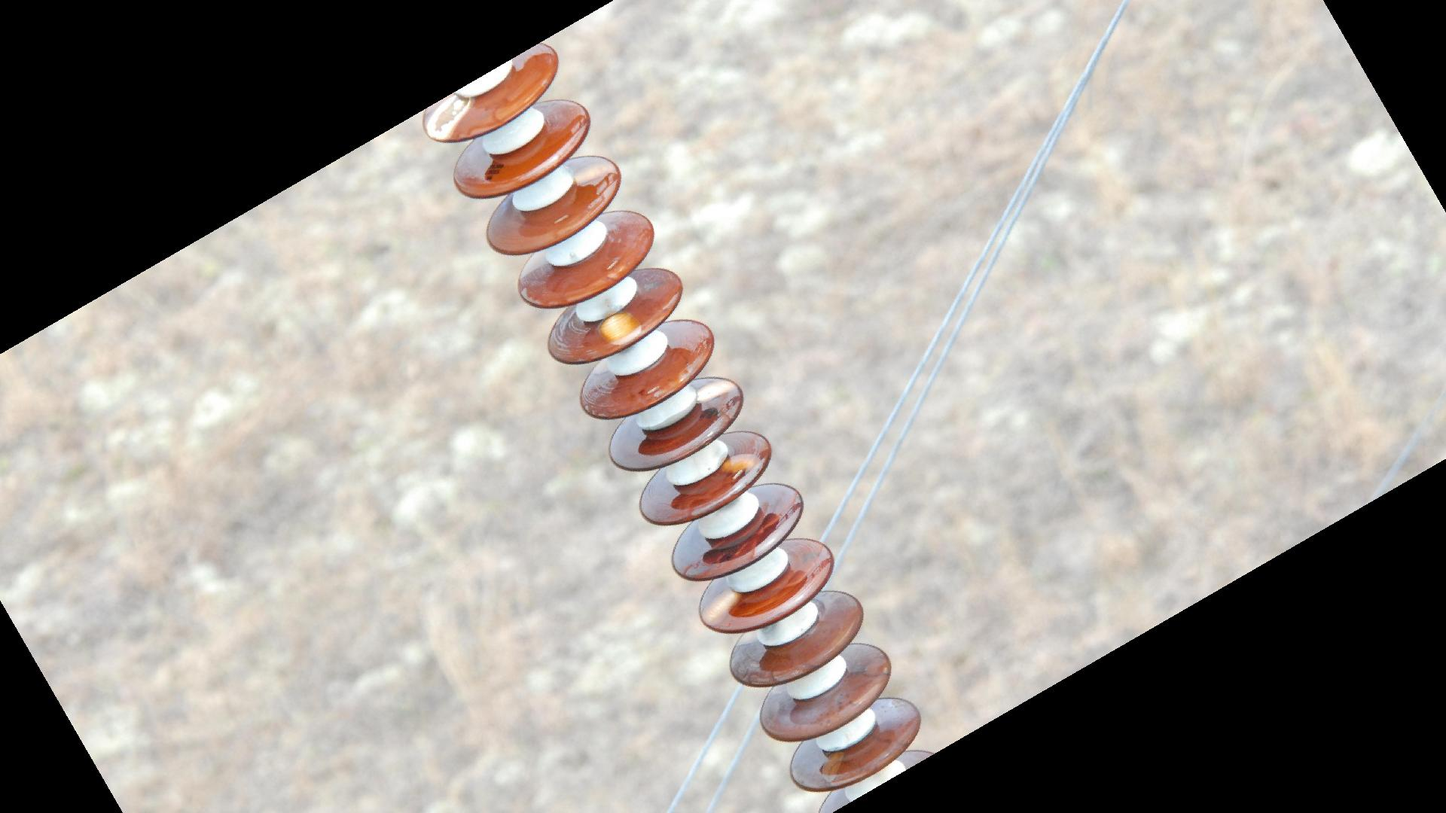insulator: (417, 39, 941, 813)
insulator_flashover: (424, 91, 474, 143), (596, 308, 645, 349), (697, 587, 741, 626), (572, 158, 619, 187), (717, 450, 764, 476), (694, 376, 737, 403)
